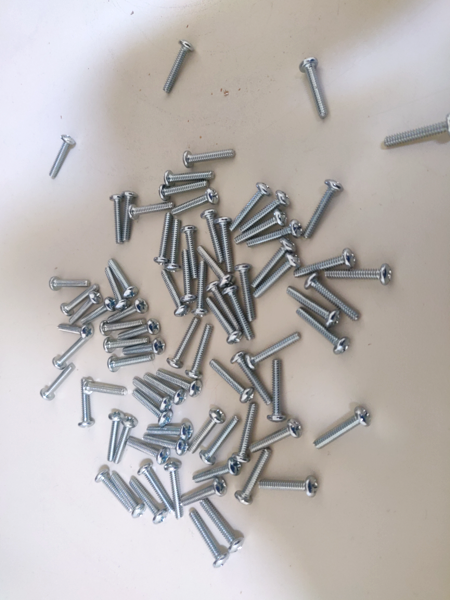longscrew: (296, 306, 350, 352), (316, 409, 373, 452), (249, 421, 306, 464), (306, 277, 360, 320), (254, 254, 300, 303), (251, 238, 296, 287), (305, 180, 342, 239), (284, 287, 339, 325), (198, 418, 243, 464), (229, 181, 270, 231), (186, 514, 224, 567), (292, 248, 359, 277), (234, 353, 271, 405), (240, 192, 289, 231), (387, 117, 450, 147), (323, 262, 390, 290), (202, 501, 241, 549), (139, 466, 176, 515), (130, 475, 167, 524), (106, 469, 143, 518), (233, 406, 265, 462), (93, 470, 130, 518), (240, 450, 271, 506), (159, 42, 191, 95), (249, 334, 302, 366), (189, 408, 225, 455), (260, 469, 320, 497), (166, 314, 196, 368), (187, 325, 217, 379), (301, 57, 327, 119), (209, 361, 250, 400), (248, 223, 302, 252), (232, 213, 286, 242), (207, 299, 240, 344), (208, 282, 241, 327), (195, 245, 231, 286), (157, 268, 187, 317), (200, 208, 227, 262), (225, 287, 253, 339), (232, 265, 258, 319), (216, 216, 242, 270), (193, 456, 243, 484), (130, 389, 170, 424), (130, 376, 170, 411), (182, 479, 230, 508), (145, 373, 185, 407), (158, 366, 198, 400), (39, 365, 73, 403), (52, 333, 86, 371), (49, 135, 75, 184), (112, 415, 138, 464), (173, 189, 219, 215), (109, 256, 136, 299), (103, 263, 126, 310), (269, 356, 285, 423), (166, 461, 184, 520), (184, 149, 238, 168), (61, 286, 95, 316), (67, 293, 100, 323), (81, 297, 116, 325), (166, 215, 182, 274), (80, 378, 128, 397), (105, 355, 153, 374), (119, 340, 167, 359), (99, 335, 147, 354), (117, 320, 165, 339), (107, 299, 148, 321), (152, 214, 170, 264), (142, 437, 190, 455), (97, 316, 145, 334), (159, 183, 212, 199), (159, 183, 211, 199), (105, 411, 121, 462), (125, 444, 170, 462), (146, 422, 193, 439), (110, 193, 125, 244), (119, 188, 134, 239), (181, 245, 193, 306), (184, 220, 196, 281), (194, 257, 206, 318), (126, 203, 177, 217), (79, 377, 91, 432), (54, 326, 96, 339), (48, 277, 90, 288)
